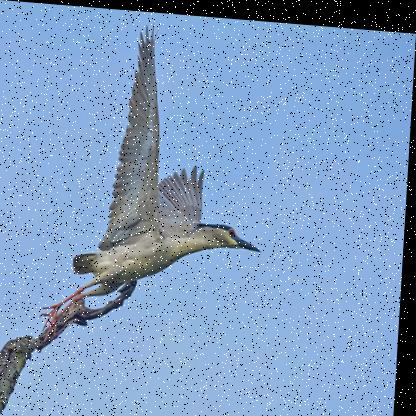Burung: (41, 21, 277, 335)
